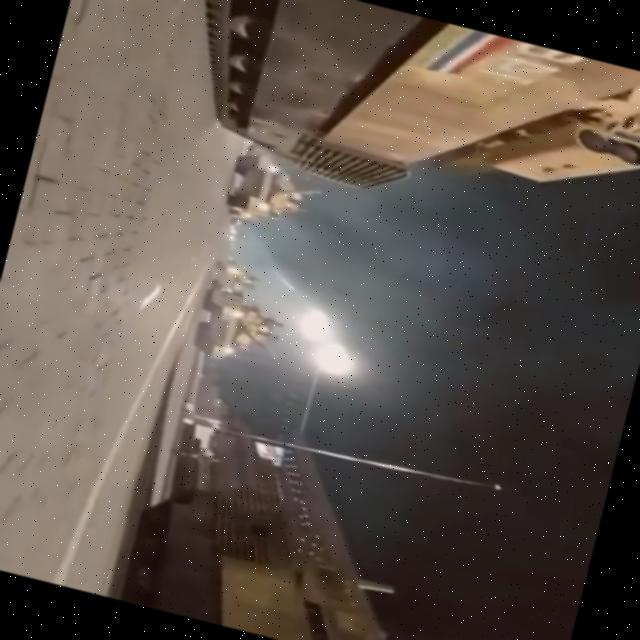north tank: (172, 266, 320, 397), (198, 138, 356, 255)
